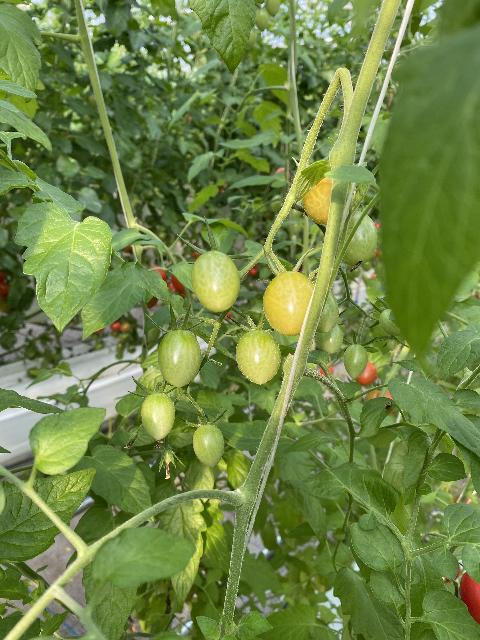l_fully_ripened: (460, 571, 480, 625), (357, 361, 377, 385)
l_green: (191, 249, 241, 312), (158, 329, 202, 388), (235, 329, 281, 385), (337, 207, 378, 267), (141, 391, 176, 440), (193, 424, 225, 467), (317, 290, 339, 333), (343, 342, 368, 379), (316, 324, 343, 353), (379, 308, 402, 335), (386, 338, 397, 351), (162, 450, 172, 464)
l_half_ripened: (262, 271, 315, 337), (302, 177, 332, 226)
